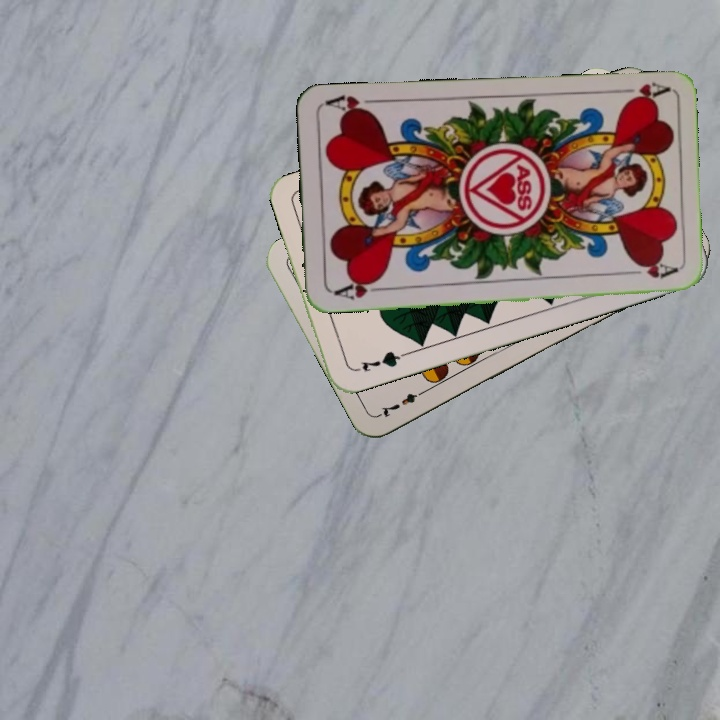E7: (375, 385, 430, 420)
G7: (349, 347, 407, 375)
HA: (611, 78, 670, 106), (330, 275, 388, 302)
